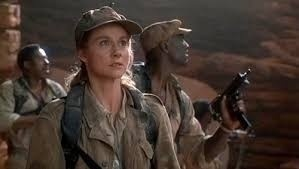pistol: (217, 66, 258, 121)
